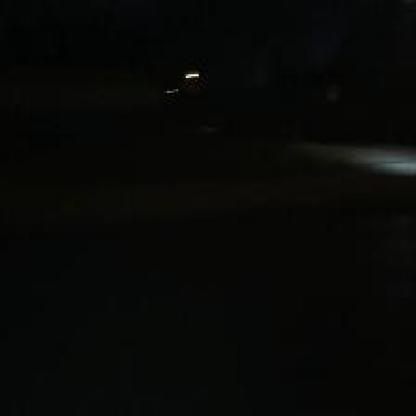other: (178, 63, 209, 83)
